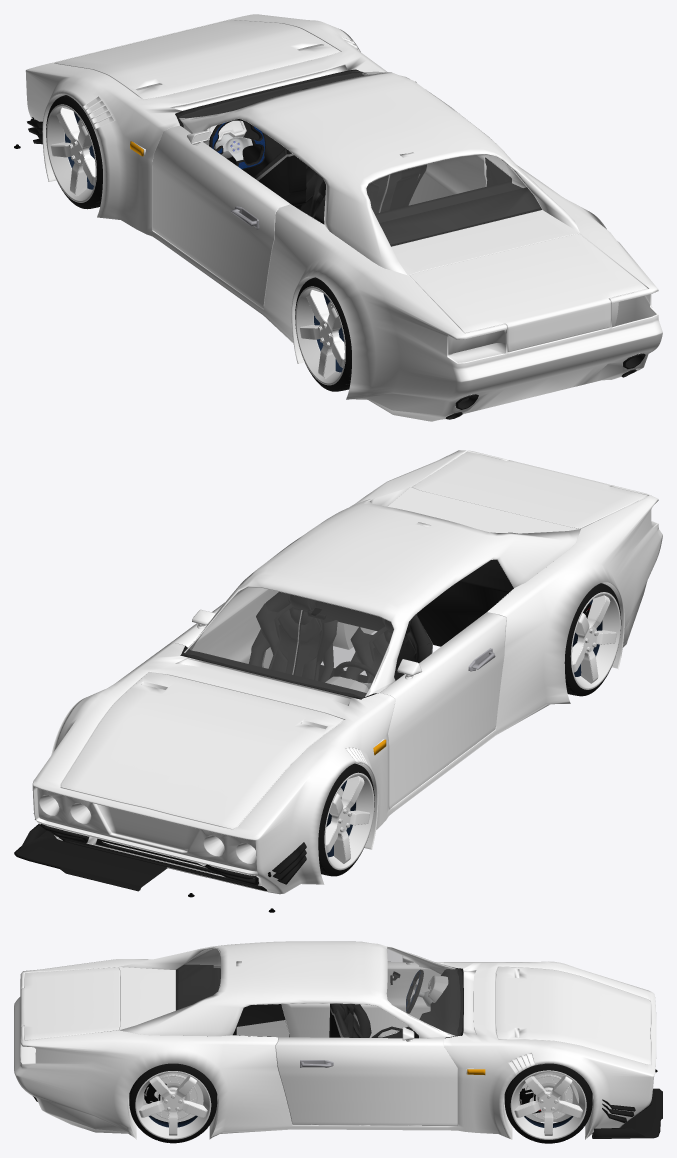
File: idk.glb
The picture shows the model from 3 angles, top to bottom: view 1: azimuth 30°, elevation 25°; view 2: azimuth 150°, elevation 25°; view 3: azimuth 270°, elevation 25°; orthographic projection. The views are drawn at different scales.
Parts seen in each view (by area): view 1: Cylinder.001, Cylinder.002, Cylinder.008, Cylinder.003, Cylinder.032, Cylinder.004, Cylinder.005, Cylinder.012, Cylinder.007, Cylinder.009, Cylinder.006, Cylinder.034 (+6 smaller); view 2: Cylinder.001, Cylinder.002, Cylinder.003, Cylinder.008, Cylinder.012, Cylinder.007, Cylinder.032, Cylinder.005, Cylinder.004, seat cushions.001, Cylinder.006, Cylinder.009 (+6 smaller); view 3: Cylinder.002, Cylinder.033, Cylinder.032, Cylinder.001, Cylinder.003, Cylinder.007, Cylinder.012, Cylinder.010, Cylinder.011, Cylinder.008, Cylinder.004, Cylinder.005 (+8 smaller).
Boxes of the visible parts, left/top/right/bottom form: Cylinder.001: left=25, top=41, right=563, bottom=421; Cylinder.002: left=140, top=14, right=662, bottom=398; Cylinder.008: left=152, top=125, right=290, bottom=308; Cylinder.003: left=179, top=87, right=426, bottom=275; Cylinder.032: left=316, top=72, right=579, bottom=232; Cylinder.004: left=275, top=71, right=541, bottom=230; Cylinder.005: left=177, top=87, right=455, bottom=246; Cylinder.012: left=54, top=41, right=243, bottom=99; Cylinder.007: left=143, top=20, right=340, bottom=76; Cylinder.009: left=295, top=277, right=351, bottom=391; Cylinder.006: left=46, top=95, right=102, bottom=209; Cylinder.034: left=265, top=69, right=542, bottom=230; Cylinder.001: left=143, top=472, right=662, bottom=894; Cylinder.002: left=32, top=450, right=558, bottom=867; Cylinder.003: left=319, top=516, right=580, bottom=696; Cylinder.008: left=380, top=612, right=506, bottom=809; Cylinder.012: left=147, top=694, right=344, bottom=829; Cylinder.007: left=60, top=672, right=247, bottom=808; Cylinder.032: left=184, top=487, right=428, bottom=652; Cylinder.005: left=270, top=601, right=393, bottom=698; Cylinder.004: left=182, top=587, right=319, bottom=677; seat cushions.001: left=249, top=592, right=337, bottom=682; Cylinder.006: left=318, top=763, right=374, bottom=876; Cylinder.009: left=564, top=583, right=621, bottom=696; Cylinder.002: left=14, top=998, right=656, bottom=1139; Cylinder.033: left=275, top=1027, right=457, bottom=1125; Cylinder.032: left=119, top=965, right=455, bottom=1038; Cylinder.001: left=14, top=959, right=656, bottom=1061; Cylinder.003: left=119, top=941, right=455, bottom=974; Cylinder.007: left=495, top=1002, right=650, bottom=1064; Cylinder.012: left=495, top=966, right=650, bottom=1033; Cylinder.010: left=129, top=1063, right=217, bottom=1143; Cylinder.011: left=504, top=1063, right=592, bottom=1143; Cylinder.008: left=281, top=956, right=443, bottom=1037; Cylinder.004: left=175, top=970, right=462, bottom=1035; Cylinder.005: left=175, top=947, right=462, bottom=1000.
Bounding box in the file's own units: 2.02 × 1.2 × 5.44.
26 materials, 7 textured.
